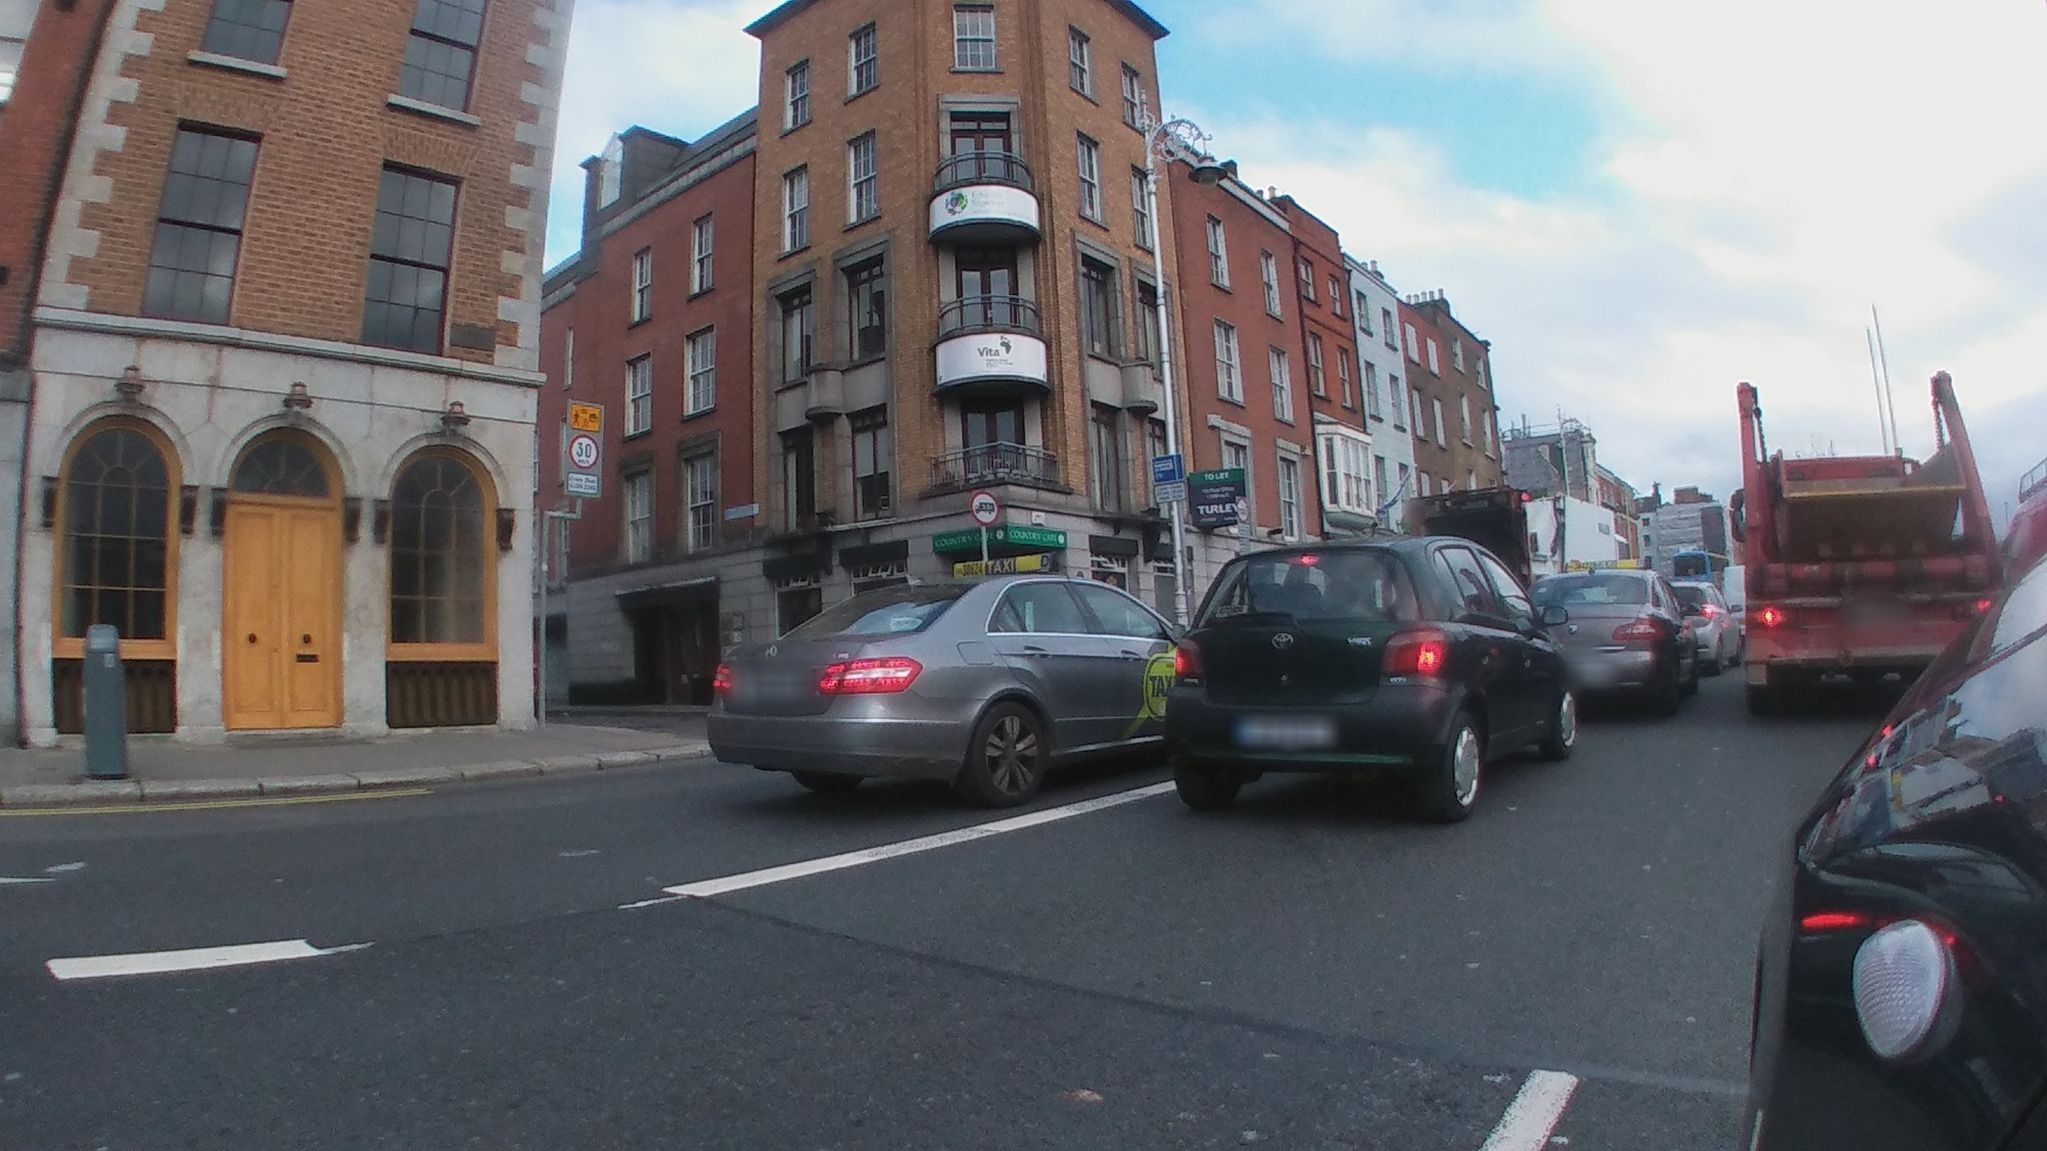property sign: (1188, 460, 1270, 528)
